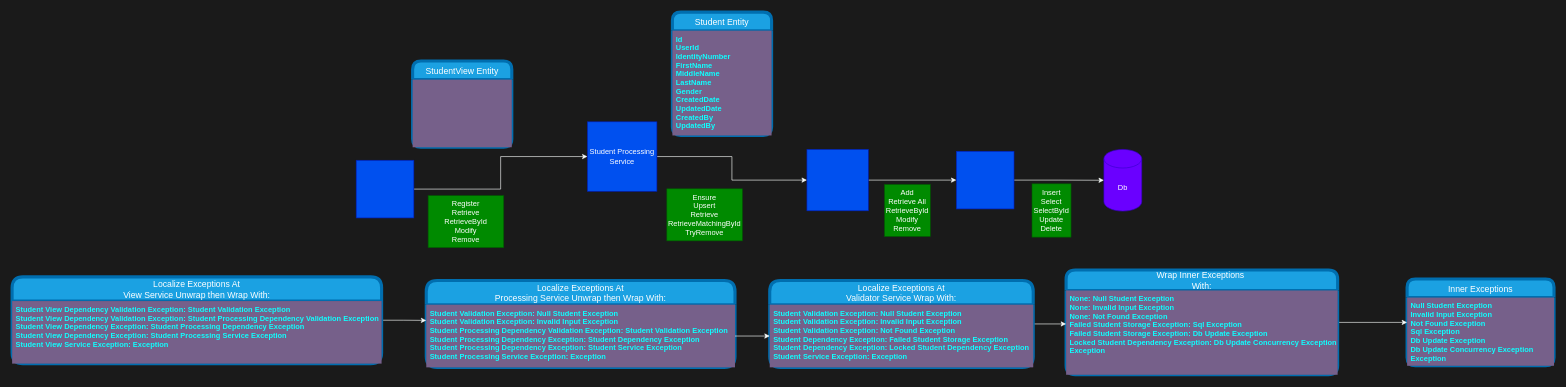
This 1566x387 diagram has some shape labels left out. Here are the shapes that lost their labels. From the top down, the centre of each, then its label:
At (462,113): "Id UserId IdentityNumber FirstName MiddleName LastName GenderView".
At (385,189): "Student View Service".
At (837,180): "Student Validator Service".
At (985,180): "Storage Broker".
